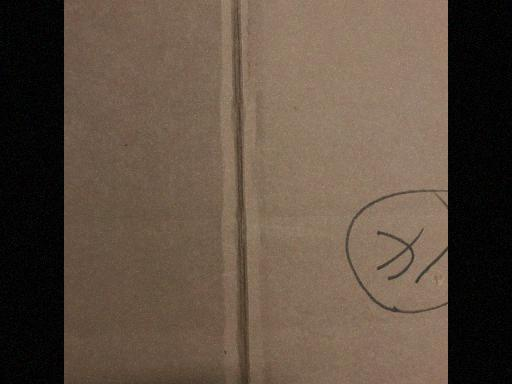cardboard: (72, 5, 445, 383)
